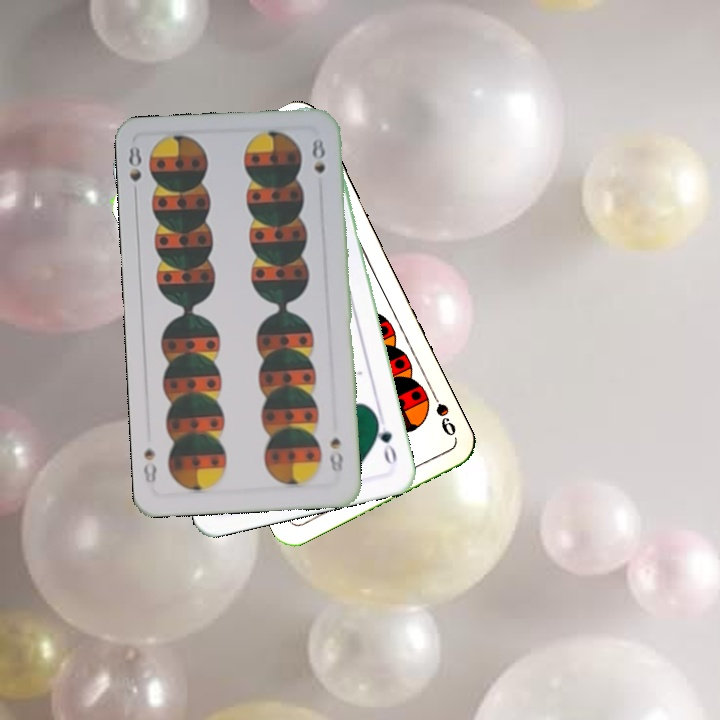GO: (371, 412, 399, 467)
S8: (125, 142, 144, 201), (325, 434, 346, 474)
S9: (425, 384, 459, 439)
